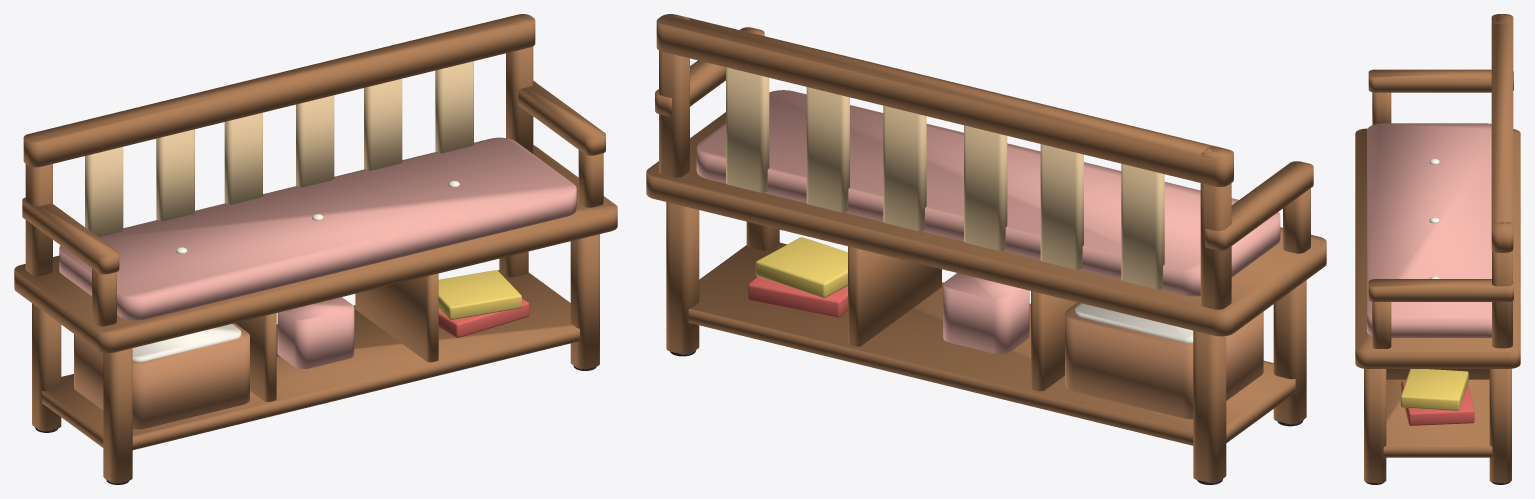
Rendered from hallway-bench.glb.
3 renders of one model, left to right at view 1: azimuth 30°, elevation 25°; view 2: azimuth 150°, elevation 25°; view 3: azimuth 270°, elevation 25°, orthographic. The views are drawn at different scales.
Parts seen in each view (by area): view 1: HallwayBench_WoodFrame, HallwayBench_PeachCushion, HallwayBench_WoodLightSlats, HallwayBench_TerracottaBasket, HallwayBench_ButterBook, HallwayBench_CreamButtons, HallwayBench_CoralBook; view 2: HallwayBench_WoodFrame, HallwayBench_PeachCushion, HallwayBench_WoodLightSlats, HallwayBench_TerracottaBasket, HallwayBench_ButterBook, HallwayBench_CoralBook, HallwayBench_CreamButtons; view 3: HallwayBench_WoodFrame, HallwayBench_PeachCushion, HallwayBench_ButterBook, HallwayBench_CoralBook.
Part boxes in pixels (bbox=[...]): HallwayBench_WoodFrame: bbox=[14, 14, 617, 483]; HallwayBench_PeachCushion: bbox=[59, 137, 576, 368]; HallwayBench_WoodLightSlats: bbox=[85, 61, 473, 237]; HallwayBench_TerracottaBasket: bbox=[74, 323, 249, 429]; HallwayBench_ButterBook: bbox=[438, 270, 521, 319]; HallwayBench_CreamButtons: bbox=[132, 181, 459, 362]; HallwayBench_CoralBook: bbox=[438, 298, 529, 337]; HallwayBench_WoodFrame: bbox=[646, 14, 1326, 483]; HallwayBench_PeachCushion: bbox=[696, 90, 1280, 354]; HallwayBench_WoodLightSlats: bbox=[726, 67, 1164, 289]; HallwayBench_TerracottaBasket: bbox=[1065, 302, 1263, 419]; HallwayBench_ButterBook: bbox=[755, 237, 847, 297]; HallwayBench_CoralBook: bbox=[748, 276, 847, 317]; HallwayBench_CreamButtons: bbox=[1075, 303, 1193, 343]; HallwayBench_WoodFrame: bbox=[1355, 14, 1520, 482]; HallwayBench_PeachCushion: bbox=[1367, 123, 1491, 337]; HallwayBench_ButterBook: bbox=[1400, 369, 1468, 410]; HallwayBench_CoralBook: bbox=[1401, 380, 1474, 425].
Bounding box in the file's own units: 1.6 × 0.86 × 0.5.
